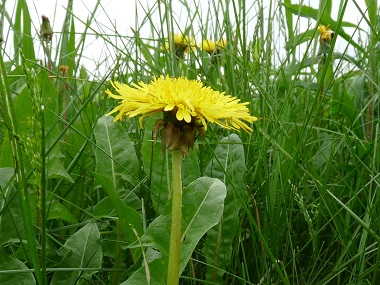dandelion: (109, 82, 243, 141), (169, 31, 192, 53), (202, 37, 224, 53)
